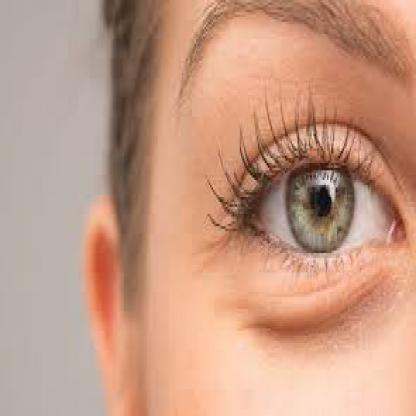darkspot: (162, 157, 169, 175), (127, 152, 136, 162), (136, 211, 142, 225), (129, 191, 136, 202), (147, 162, 153, 171)
